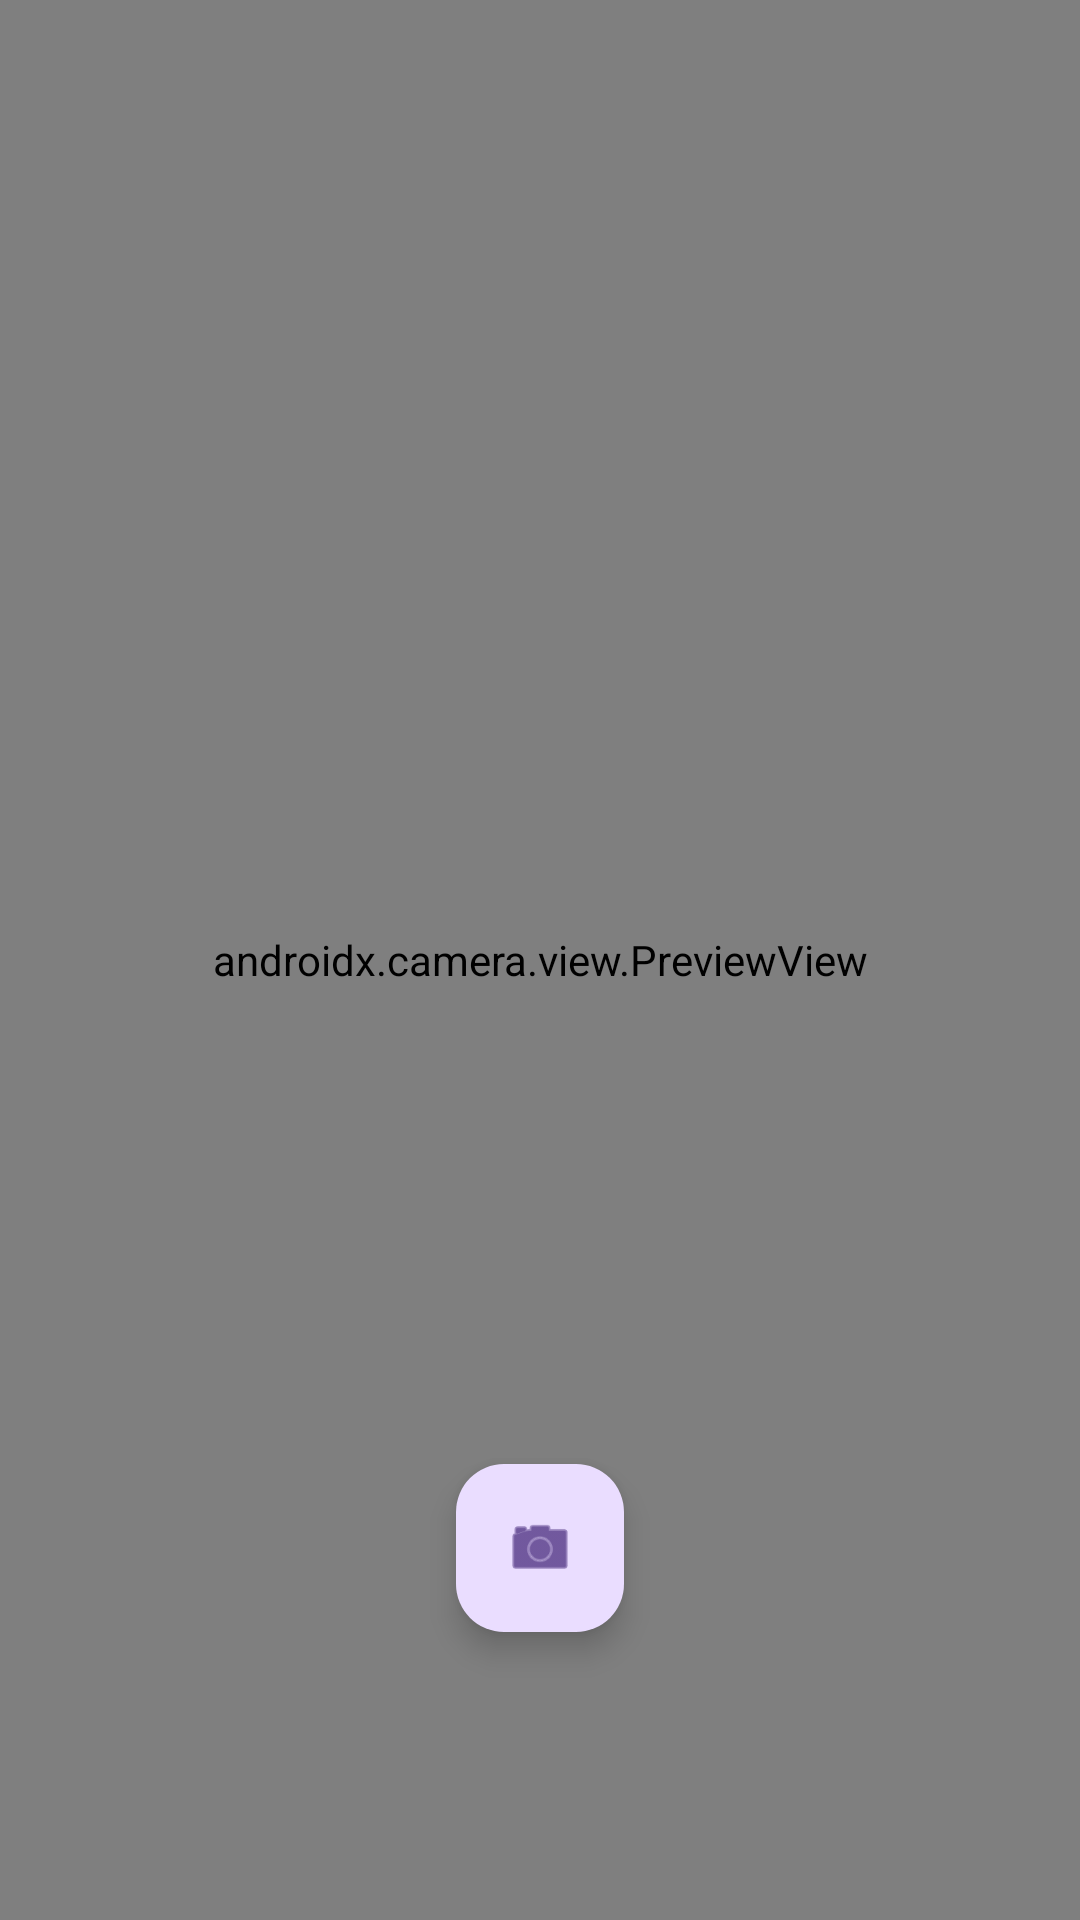

Icons on this 1080x1920 Android screen, each with the point to tap as (x,y):
Capturar: (540,1548)
